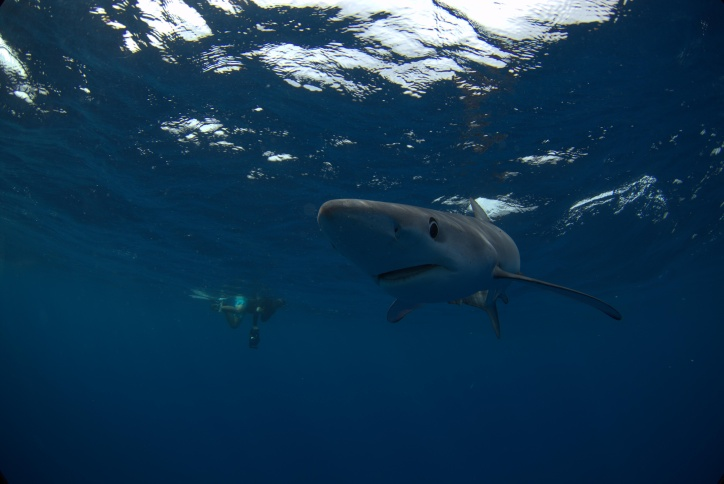Azul: (291, 164, 636, 353)
